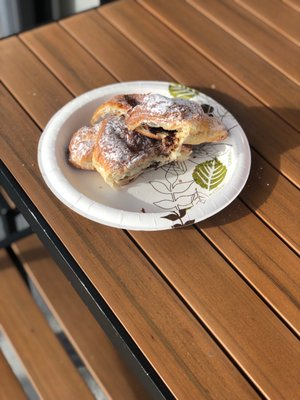curry: (0, 0, 299, 360)
